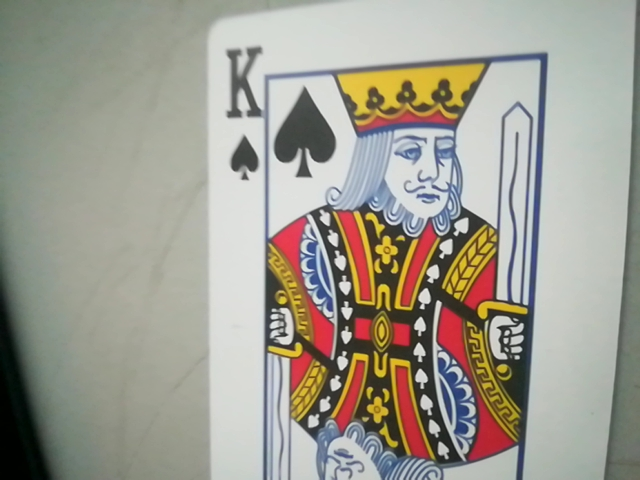ht k: (209, 41, 279, 187)
